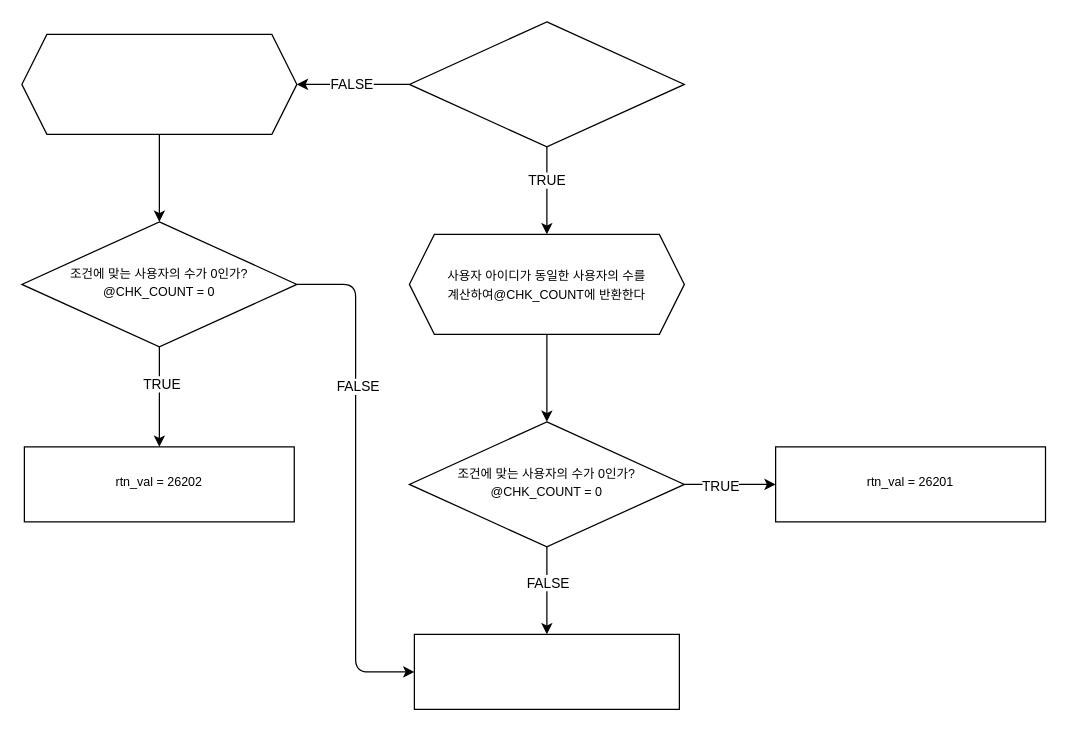
Image size: 1068x731. Some labels were removed from this diagram. The centre of each missing label's shape, as x and y in pixels:
"rtn_val = 0" belongs at point 546,671.
"사용자 아이디가 동일하며 활성화조건을 만족하는 사용자의 수를 계산하여@CHK_COUNT에 반환한다" belongs at point 159,83.
"사용자 활성화상태값이 NULL인가? IN_ACTIVE IS NULL" belongs at point 546,84.
